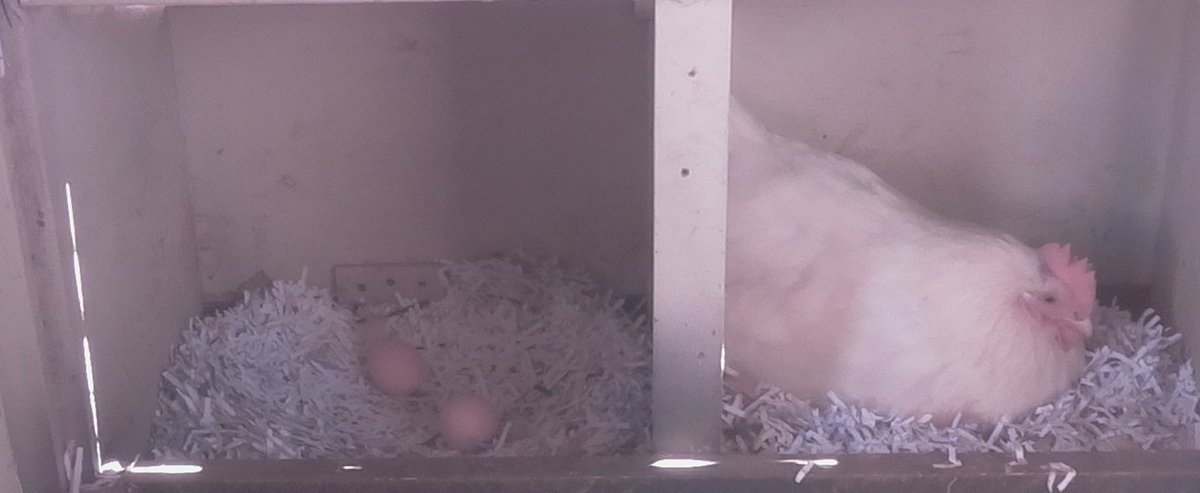egg: (360, 331, 429, 401), (436, 389, 506, 451)
hen: (729, 154, 1105, 421)
